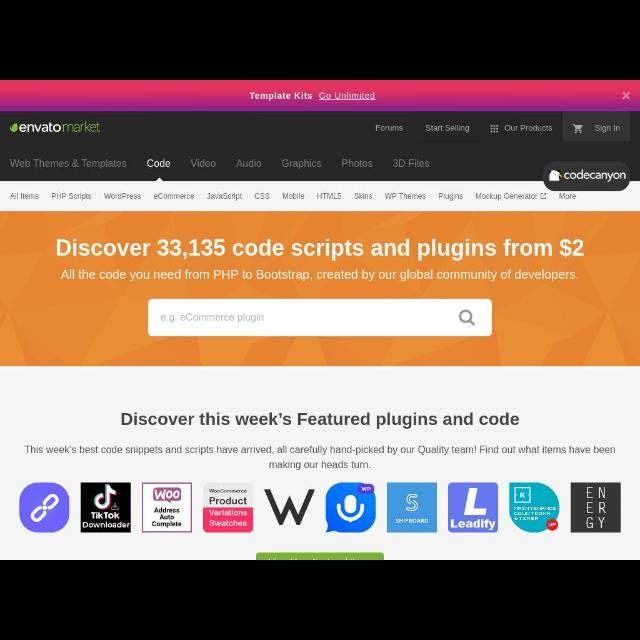icon: (459, 310, 475, 326), (550, 169, 562, 181), (572, 124, 584, 134), (491, 125, 499, 133), (622, 92, 630, 100), (541, 193, 547, 199)
image: (326, 482, 376, 534), (20, 482, 70, 532), (510, 483, 560, 533), (81, 483, 131, 532), (142, 483, 192, 532), (387, 483, 437, 532), (449, 483, 499, 532), (571, 483, 621, 532), (203, 484, 253, 532), (264, 488, 316, 526), (10, 121, 100, 132)
input: (148, 299, 492, 337)
multitab: (9, 158, 429, 170)
panel: (1, 81, 639, 111)
text: (25, 446, 615, 468), (57, 238, 585, 262), (122, 412, 520, 430), (61, 270, 579, 282), (10, 158, 126, 170), (162, 313, 264, 323), (250, 92, 376, 100), (564, 170, 626, 182), (476, 193, 538, 201), (282, 159, 322, 169), (393, 158, 429, 168), (426, 125, 469, 133), (384, 192, 426, 200), (504, 125, 552, 132), (52, 193, 92, 201), (105, 192, 142, 200), (207, 193, 243, 201), (190, 158, 216, 168), (236, 158, 262, 168), (342, 159, 373, 167), (153, 193, 194, 199), (595, 125, 621, 133), (439, 193, 463, 201), (147, 159, 171, 167), (283, 192, 305, 200), (10, 193, 38, 199), (376, 125, 404, 131), (318, 193, 342, 199), (256, 192, 270, 200), (355, 193, 373, 199), (559, 193, 575, 199)
textbutton: (543, 161, 631, 191)
